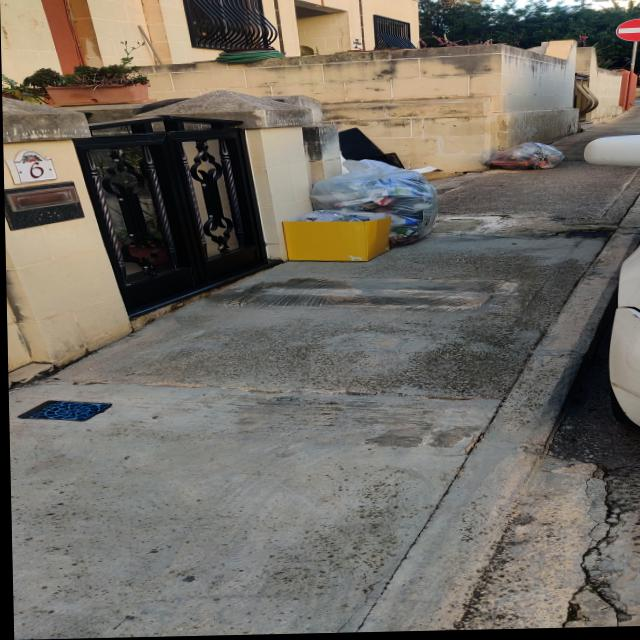Others Waste: (281, 215, 391, 264)
Recyclable Material -Grey Bags-: (299, 160, 442, 251), (473, 144, 565, 174)
